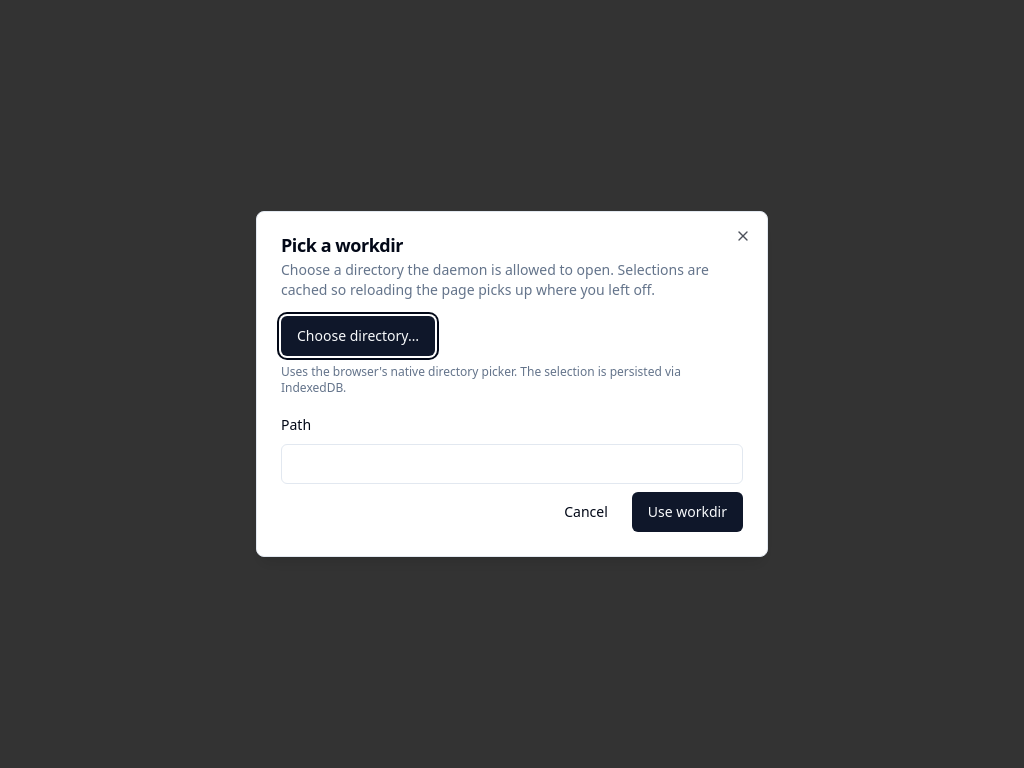
Test: <WorkdirPickerDialog> › surfaces error when the FSA picker rejects
Click the button with test id "workdir-picker-fsa": (358, 336) [281, 316, 435, 356]
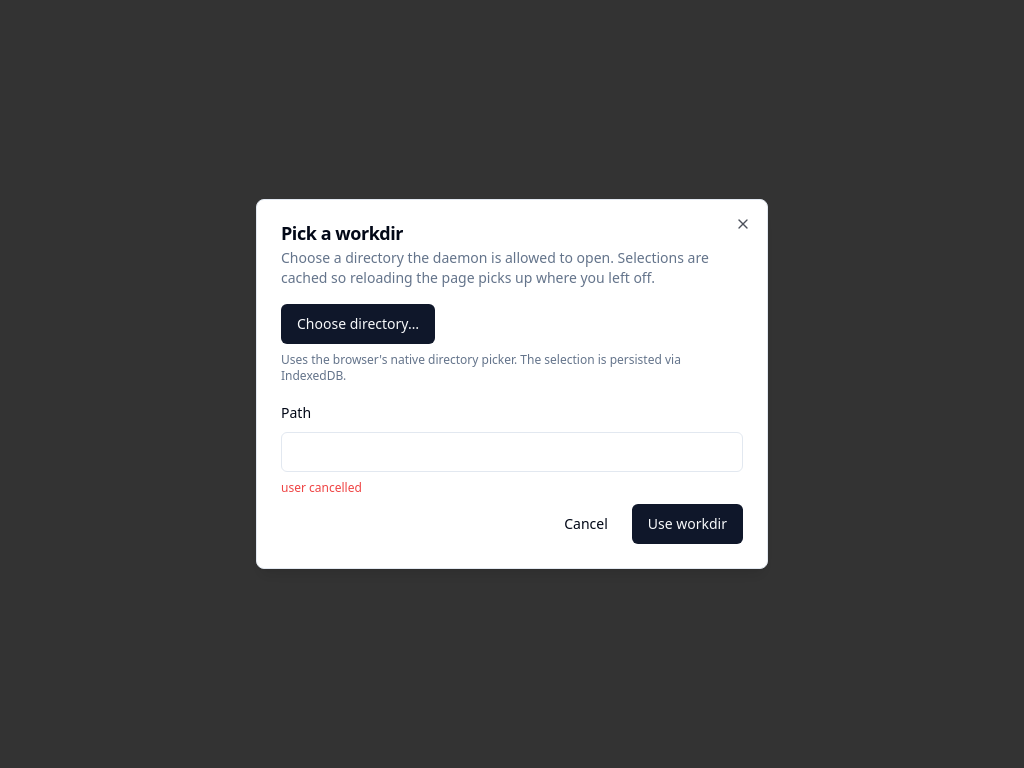
Now the message with test id "workdir-picker-error" reads "user cancelled", box [281, 479, 362, 496]
